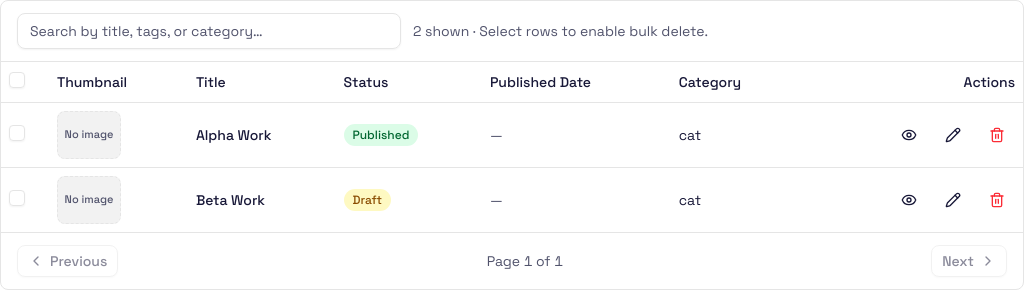
Test: admin bulk selection tables › filters works by title and exposes previous/next pagination controls
Type "beta" into the field named "Search work titles" at (209, 31), box top-left (17, 13), bottom-right (401, 49)
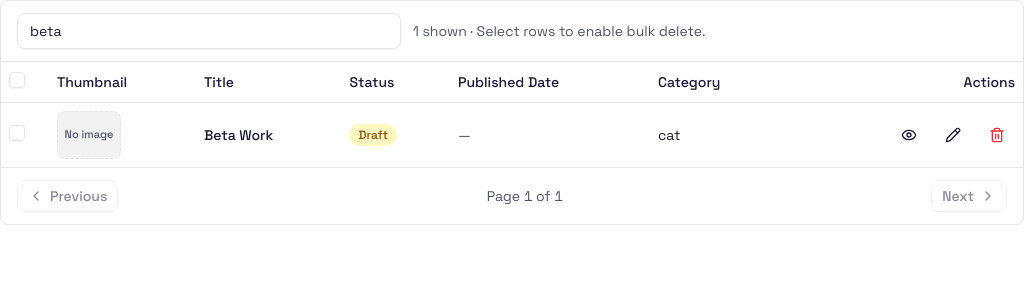
Expected: the link "Beta Work" is shown, top-left (204, 126), bottom-right (273, 144)
Expected: the link "Alpha Work" is gone
